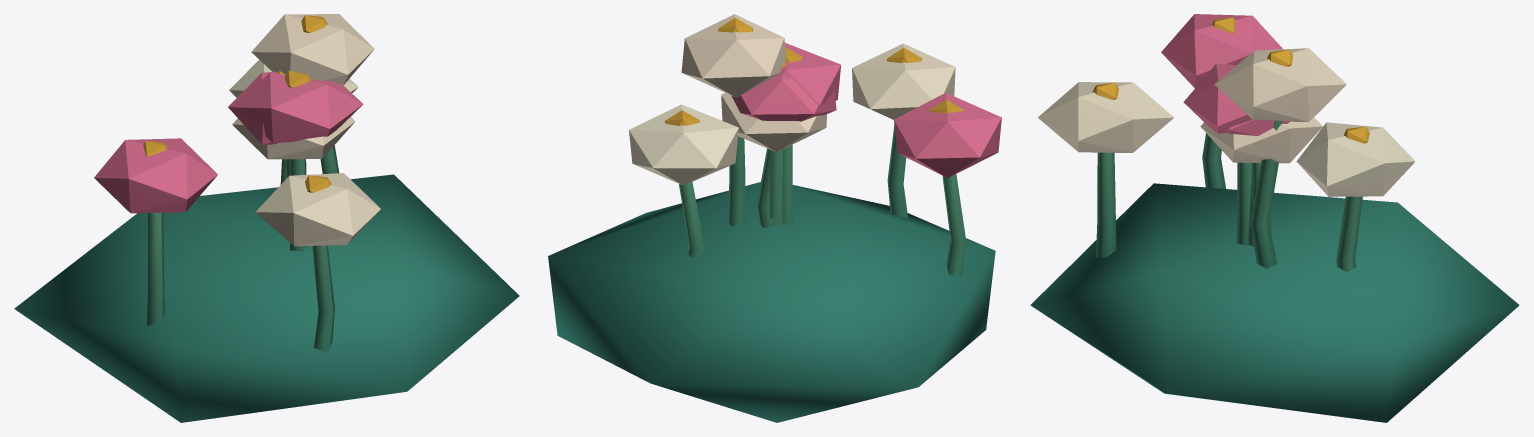
File: flowers_white.glb
3 views of the same model, side by side, from view 1: azimuth 30°, elevation 25°; view 2: azimuth 150°, elevation 25°; view 3: azimuth 270°, elevation 25° (orthographic). The views are drawn at different scales.
Visible parts, largest first — view 1: flowers_white; view 2: flowers_white; view 3: flowers_white.
Boxes of the visible parts, <box> form: flowers_white: <box>14,14,519,422</box>; flowers_white: <box>548,14,1001,422</box>; flowers_white: <box>1030,14,1519,422</box>.
Bounding box in the file's own units: 0.8596 × 0.7181 × 0.9405.
